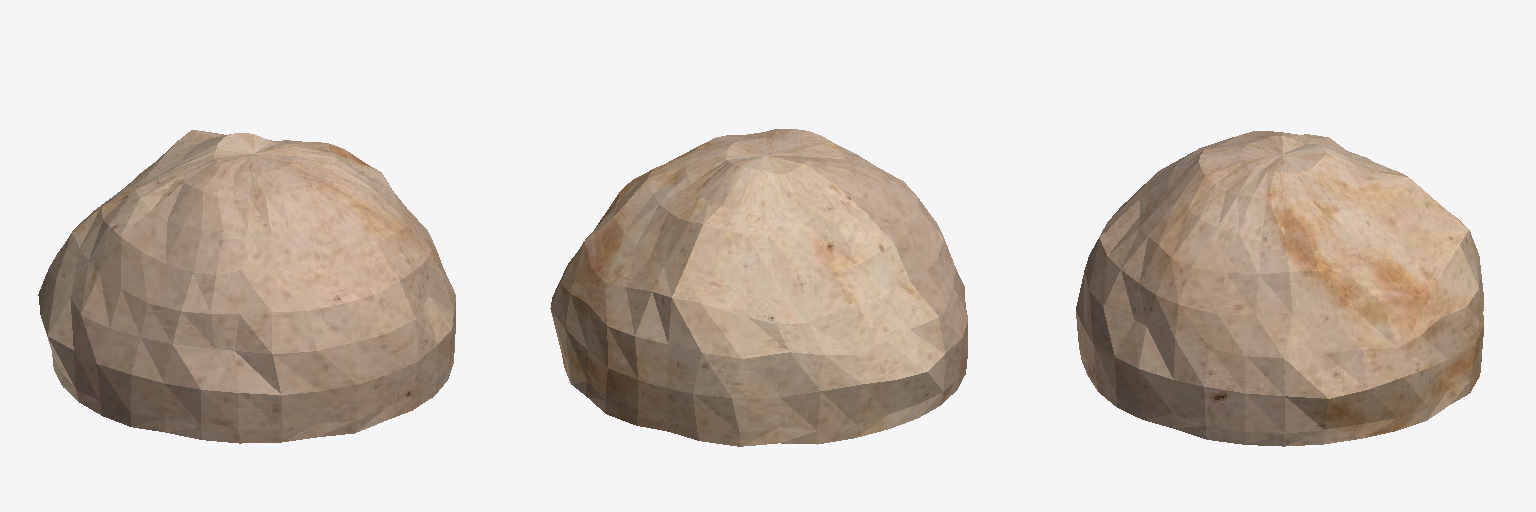
The picture shows the model from 3 angles: view 1: azimuth 30°, elevation 25°; view 2: azimuth 150°, elevation 25°; view 3: azimuth 270°, elevation 25°; orthographic projection.
Visible parts, largest first — view 1: Sphere; view 2: Sphere; view 3: Sphere.
Boxes of the visible parts, x1=… form: Sphere: x1=38, y1=130, x2=455, y2=443; Sphere: x1=550, y1=129, x2=967, y2=446; Sphere: x1=1076, y1=131, x2=1483, y2=446.
Size of the model in its own units: 2.09 by 1.14 by 2.01.
1 materials, 1 textured.